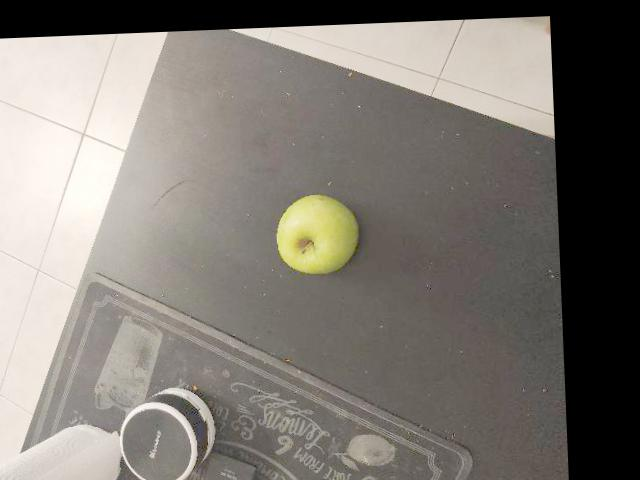apple: (73, 52, 182, 173)
